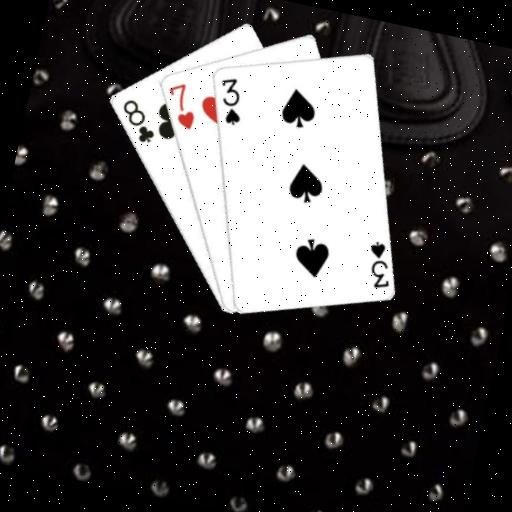3S: (209, 72, 250, 128), (358, 236, 398, 292)
7H: (157, 76, 203, 132)
8C: (112, 93, 161, 146)
